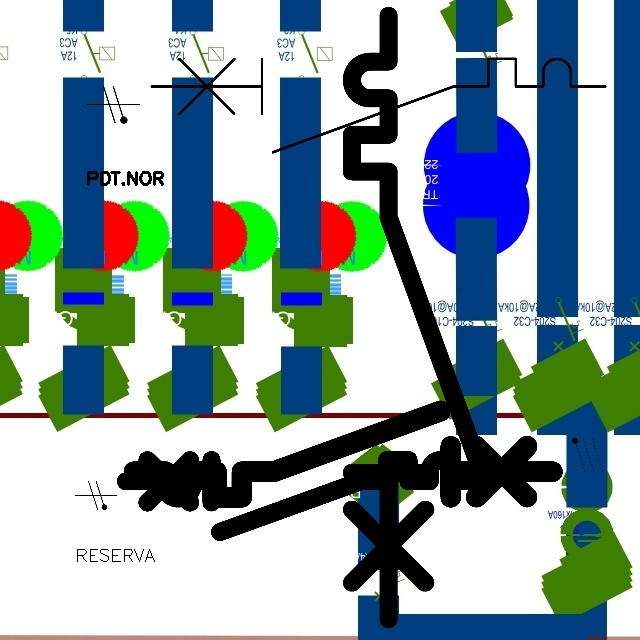interruptor_termomagnetico: (336, 0, 491, 635), (139, 47, 616, 163), (123, 400, 563, 508), (116, 451, 486, 541)
